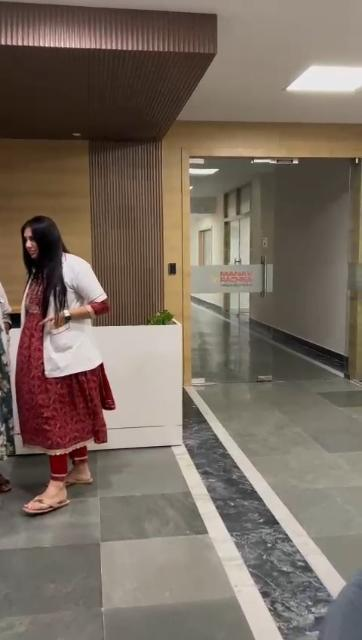floor: (0, 349, 362, 640)
moving-obj: (16, 226, 114, 528)
